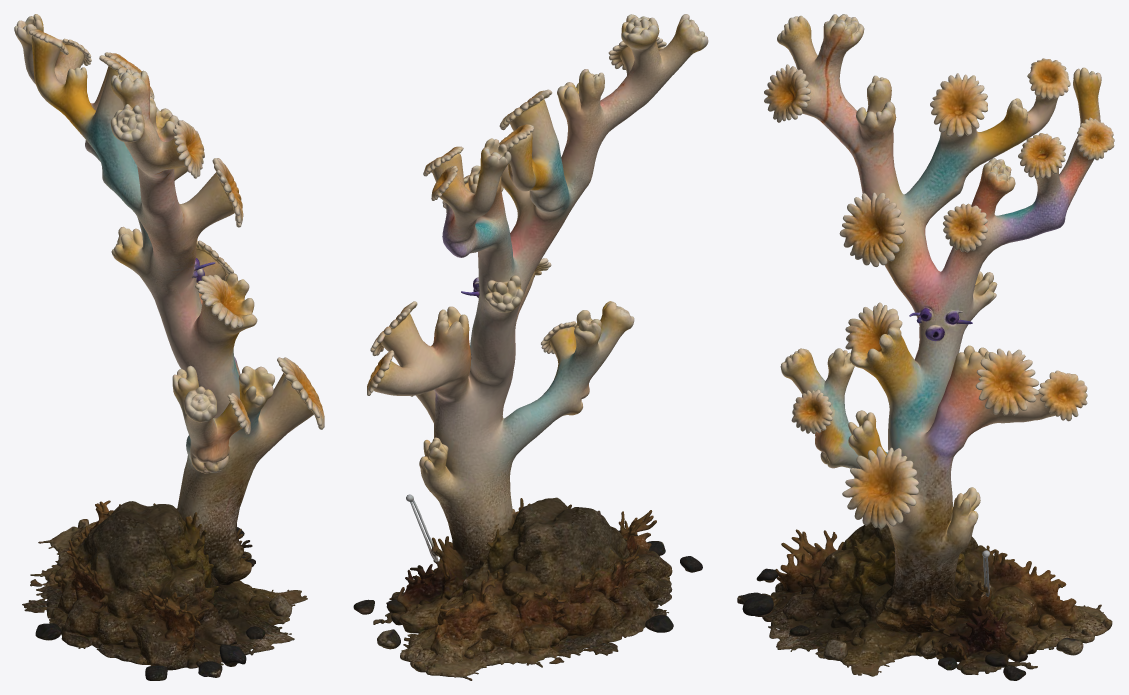
3 renders of one model, left to right at view 1: azimuth 30°, elevation 25°; view 2: azimuth 150°, elevation 25°; view 3: azimuth 270°, elevation 25°, orthographic.
Bounding box in the file's own units: 0.5059 × 0.9997 × 0.5995.
1 material, 1 textured.
